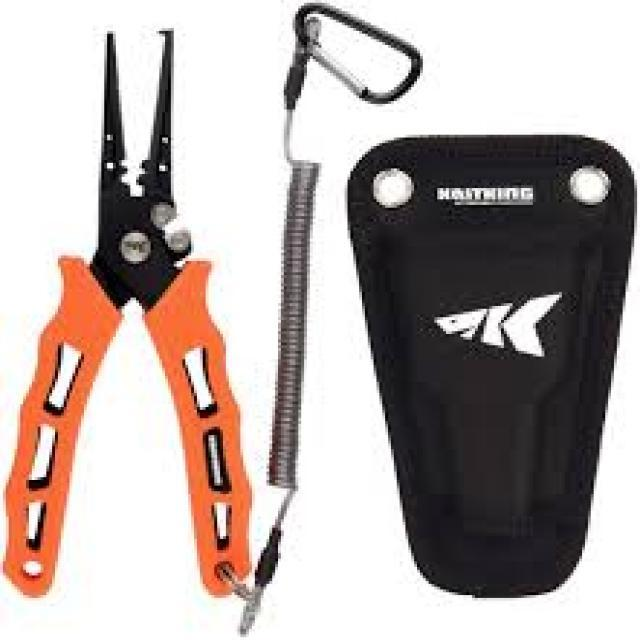pliers: (12, 17, 252, 580)
